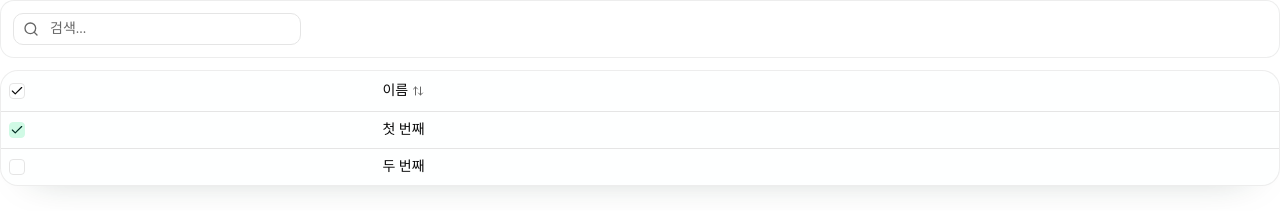
Test case: DataTable › 내부 검색으로 가려진 선택 행은 prune되지 않는다
Note: '첫 번째'(선택됨)를 가리는 검색 — 선택 키는 data prop 기준으로 유효하다.
In the field with placeholder "검색...": [157, 29] box [13, 13, 301, 45], type "두"
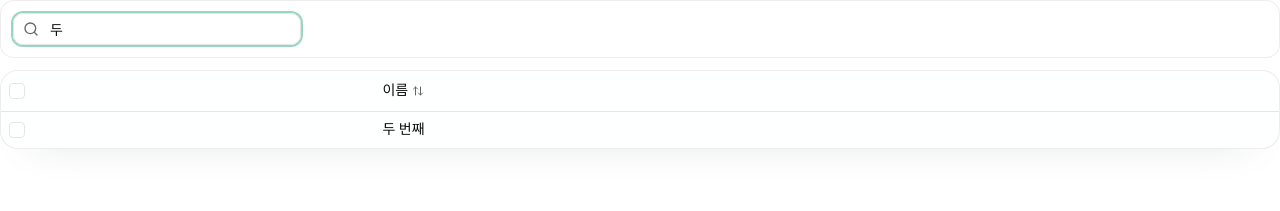
Expected: the text "첫 번째" is gone
